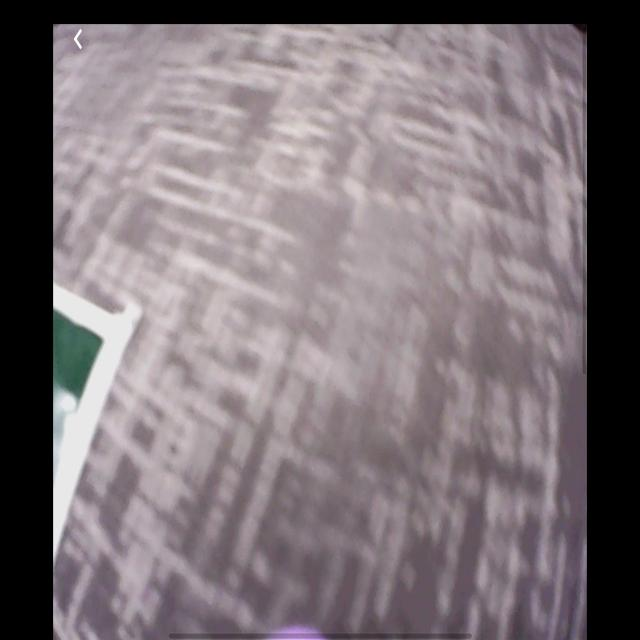ball: (264, 624, 327, 640)
